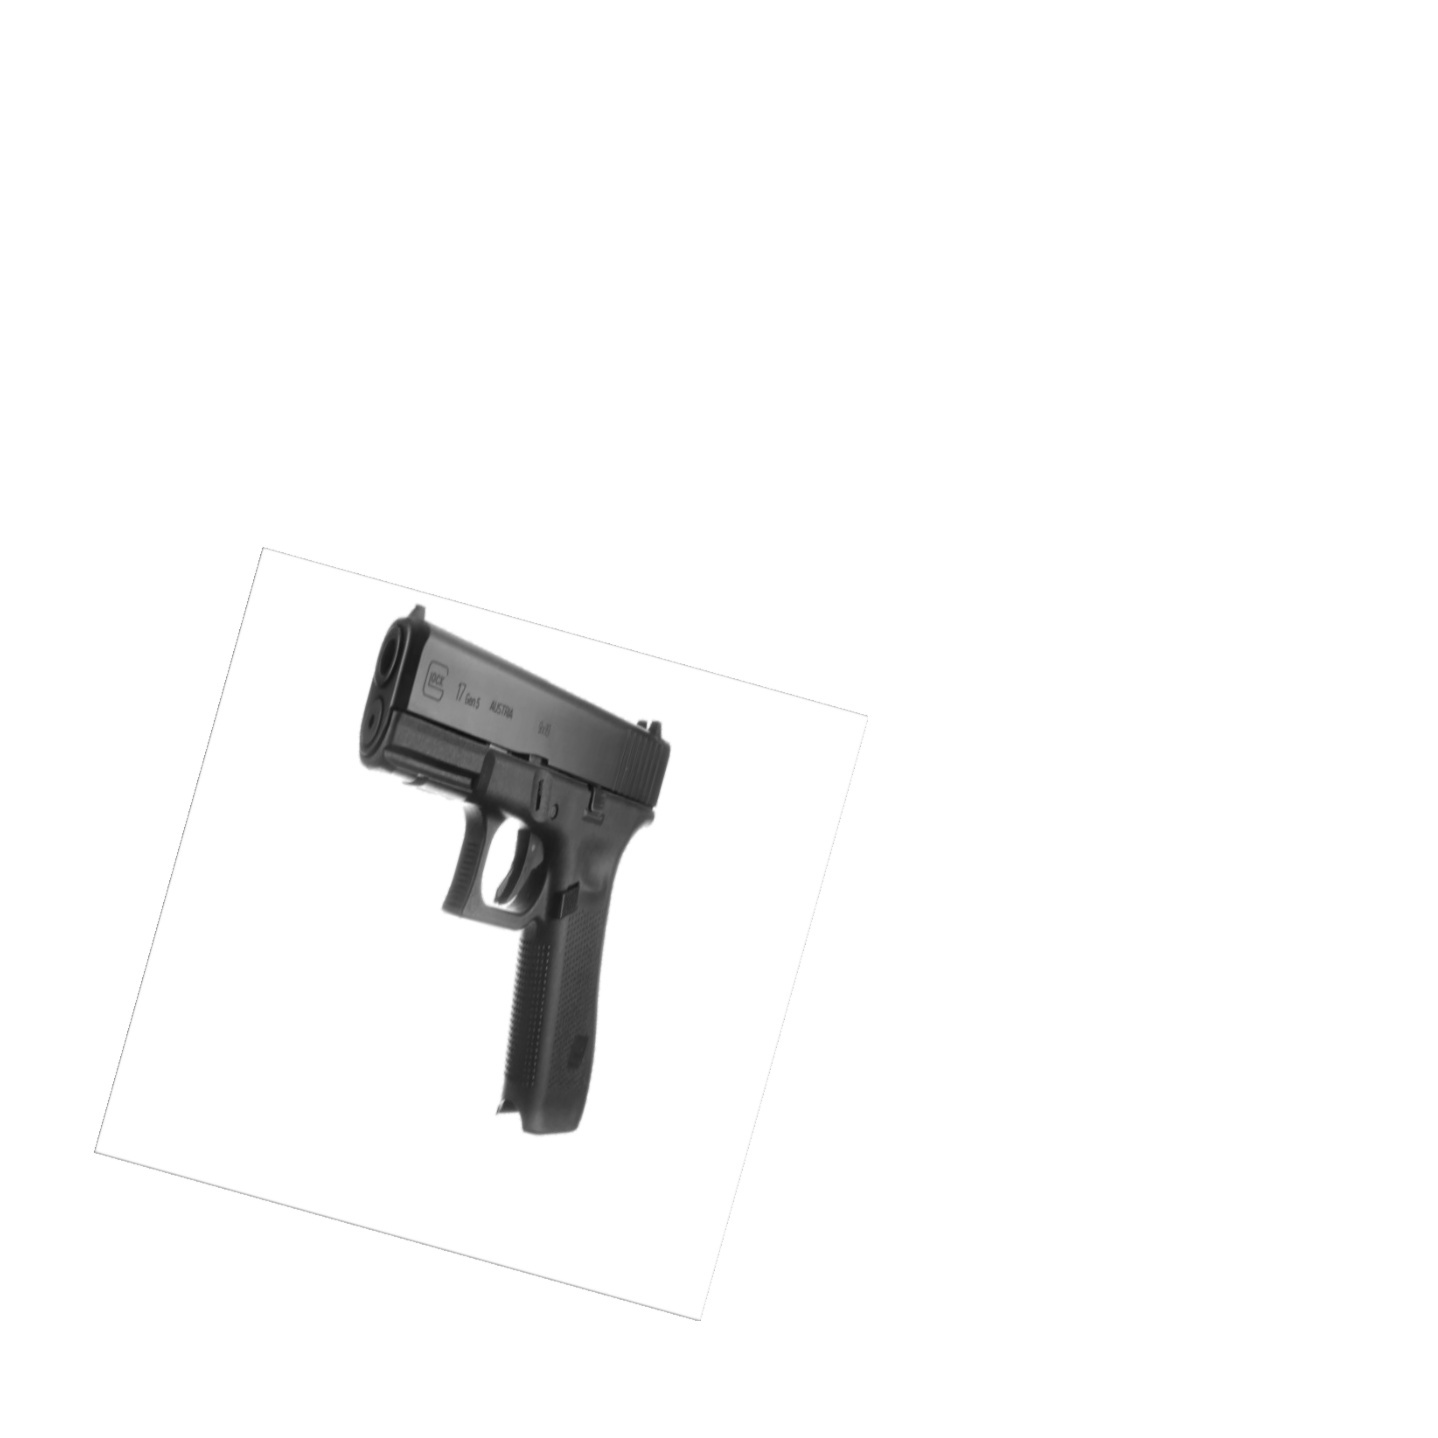gun: (357, 599, 670, 1138)
